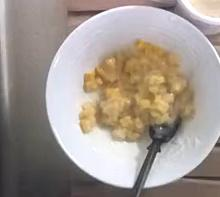cereal: (79, 39, 192, 140)
